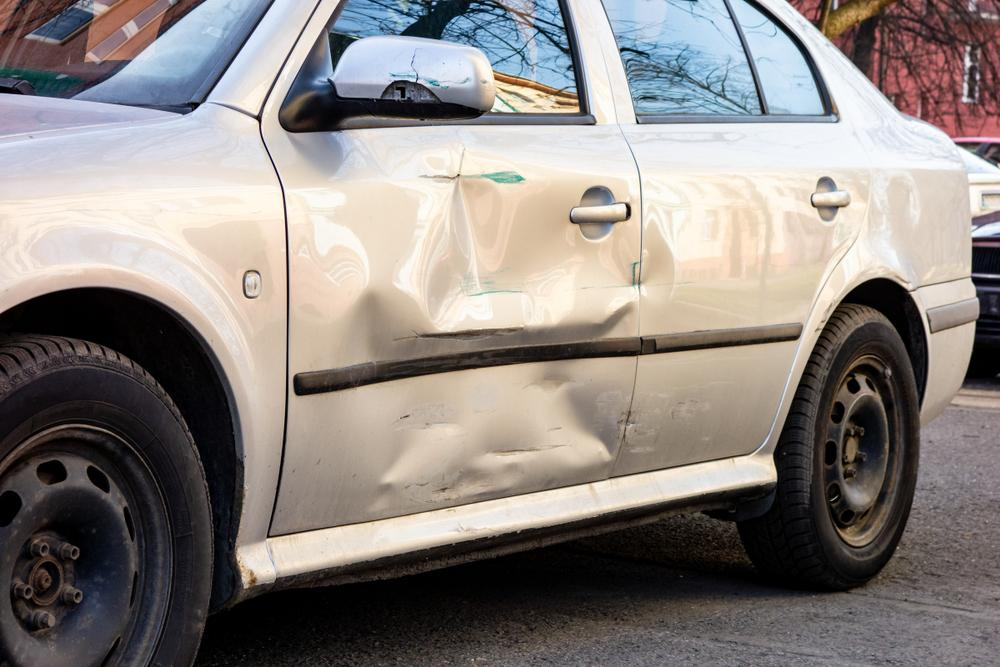dent: (322, 165, 625, 363), (355, 361, 615, 511)
